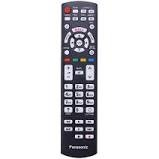remote control: (58, 2, 102, 159)
